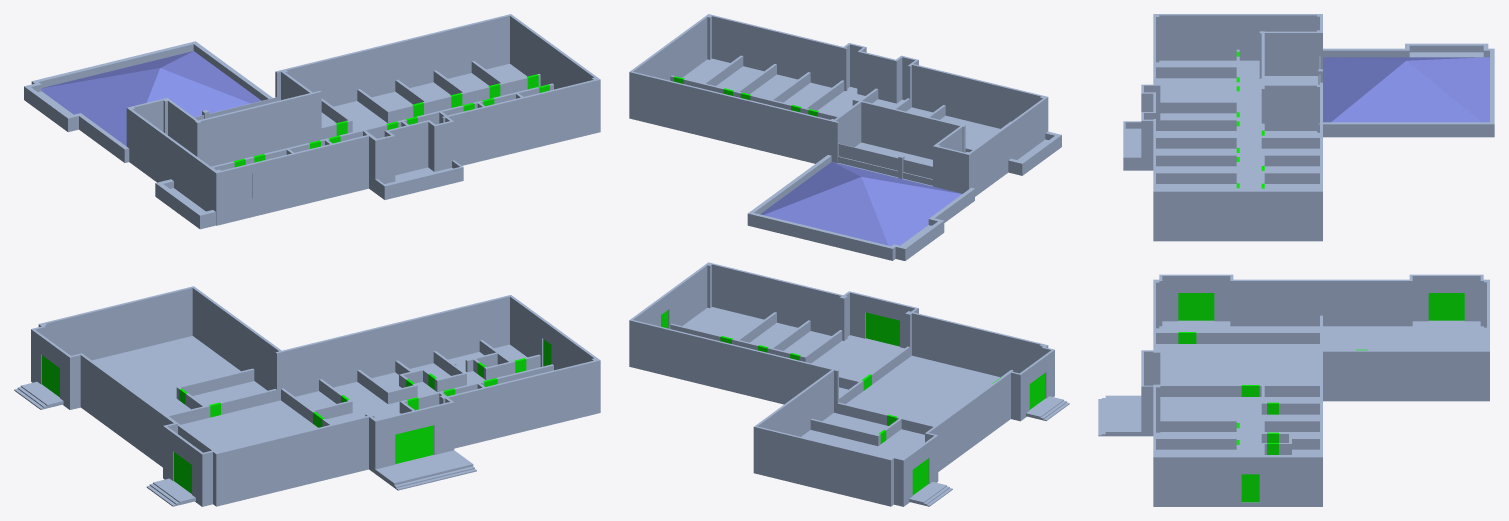
File: Residential_Building_expansion.glb
3 renders of one model, left to right at view 1: azimuth 30°, elevation 25°; view 2: azimuth 150°, elevation 25°; view 3: azimuth 270°, elevation 25°, orthographic. The views are drawn at different scales.
Visible parts, largest first — view 1: Floor1, Floor2; view 2: Floor1, Floor2; view 3: Floor1, Floor2.
Part boxes in pixels (left/top/right/bottom): Floor1: left=14, top=286, right=600, bottom=506; Floor2: left=24, top=14, right=600, bottom=229; Floor1: left=629, top=262, right=1069, bottom=506; Floor2: left=629, top=14, right=1061, bottom=260; Floor1: left=1098, top=274, right=1489, bottom=506; Floor2: left=1123, top=14, right=1494, bottom=241.
Size of the model in its own units: 38.34 by 29.2 by 33.24.
